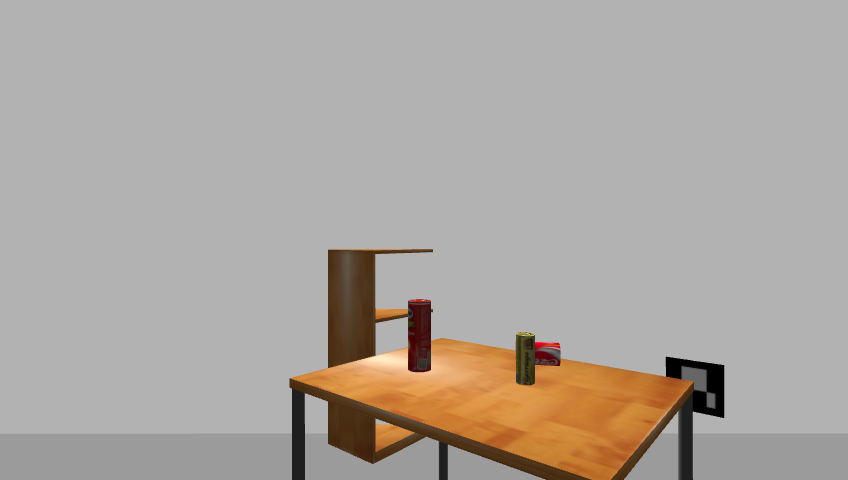aruco marker: (661, 354, 730, 420)
biscuits pack: (515, 332, 535, 386)
bookshelf: (322, 245, 438, 468)
coke can: (533, 341, 563, 368)
dinner table: (284, 340, 704, 479)
pringles can: (405, 299, 434, 374)
